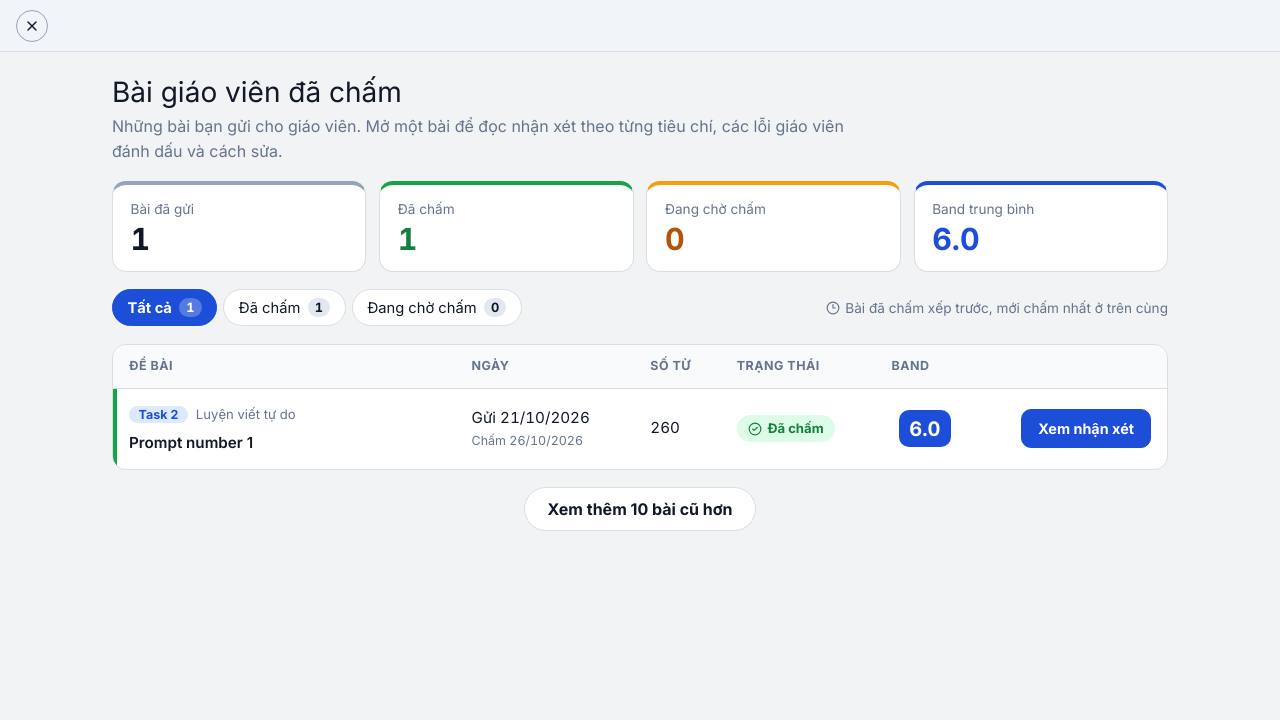
Test: the list a "your essay was graded" notice opens › loads older essays on request and adds them under the ones already shown
The width and height of the screenshot is (1280, 720).
Expected: the table is shown, [113,345,1167,468]
Click the button "Xem thêm 10 bài cũ hơn" at [640, 509], box [524,487,756,531]
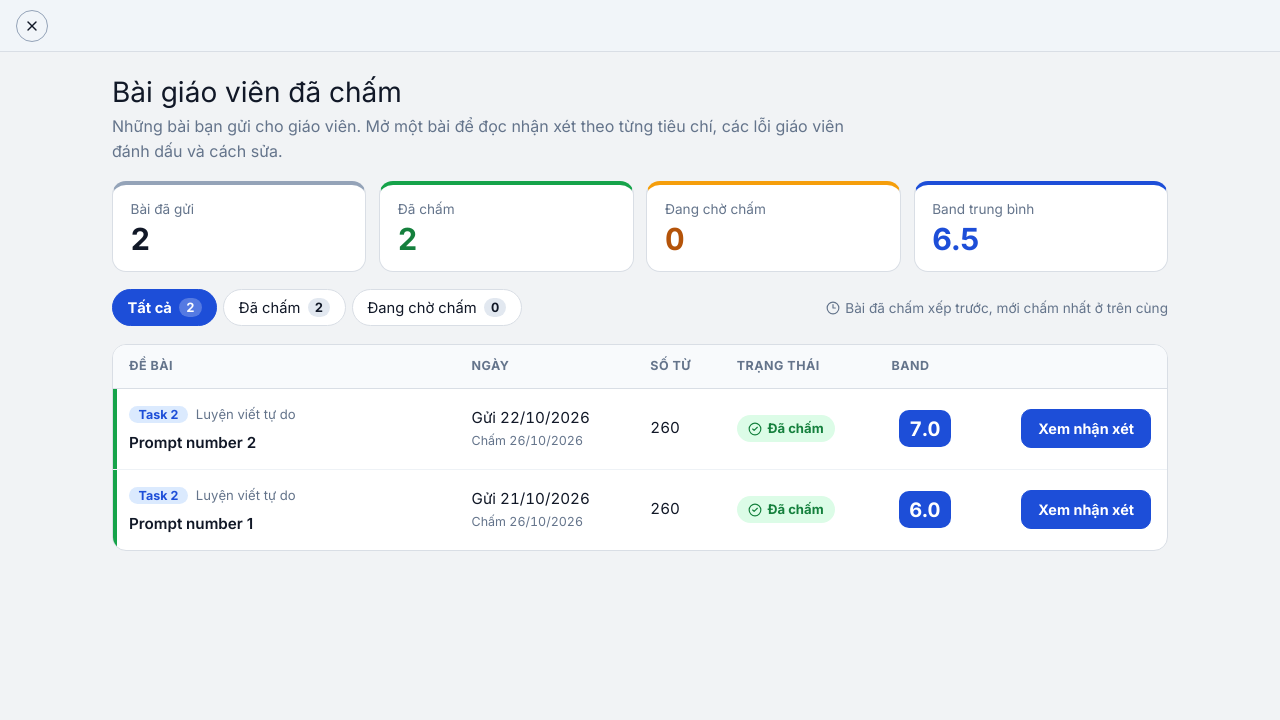
Result: the text "Prompt number 2" is shown at [129,433,256,452]
Result: the button "Xem thêm" is gone
